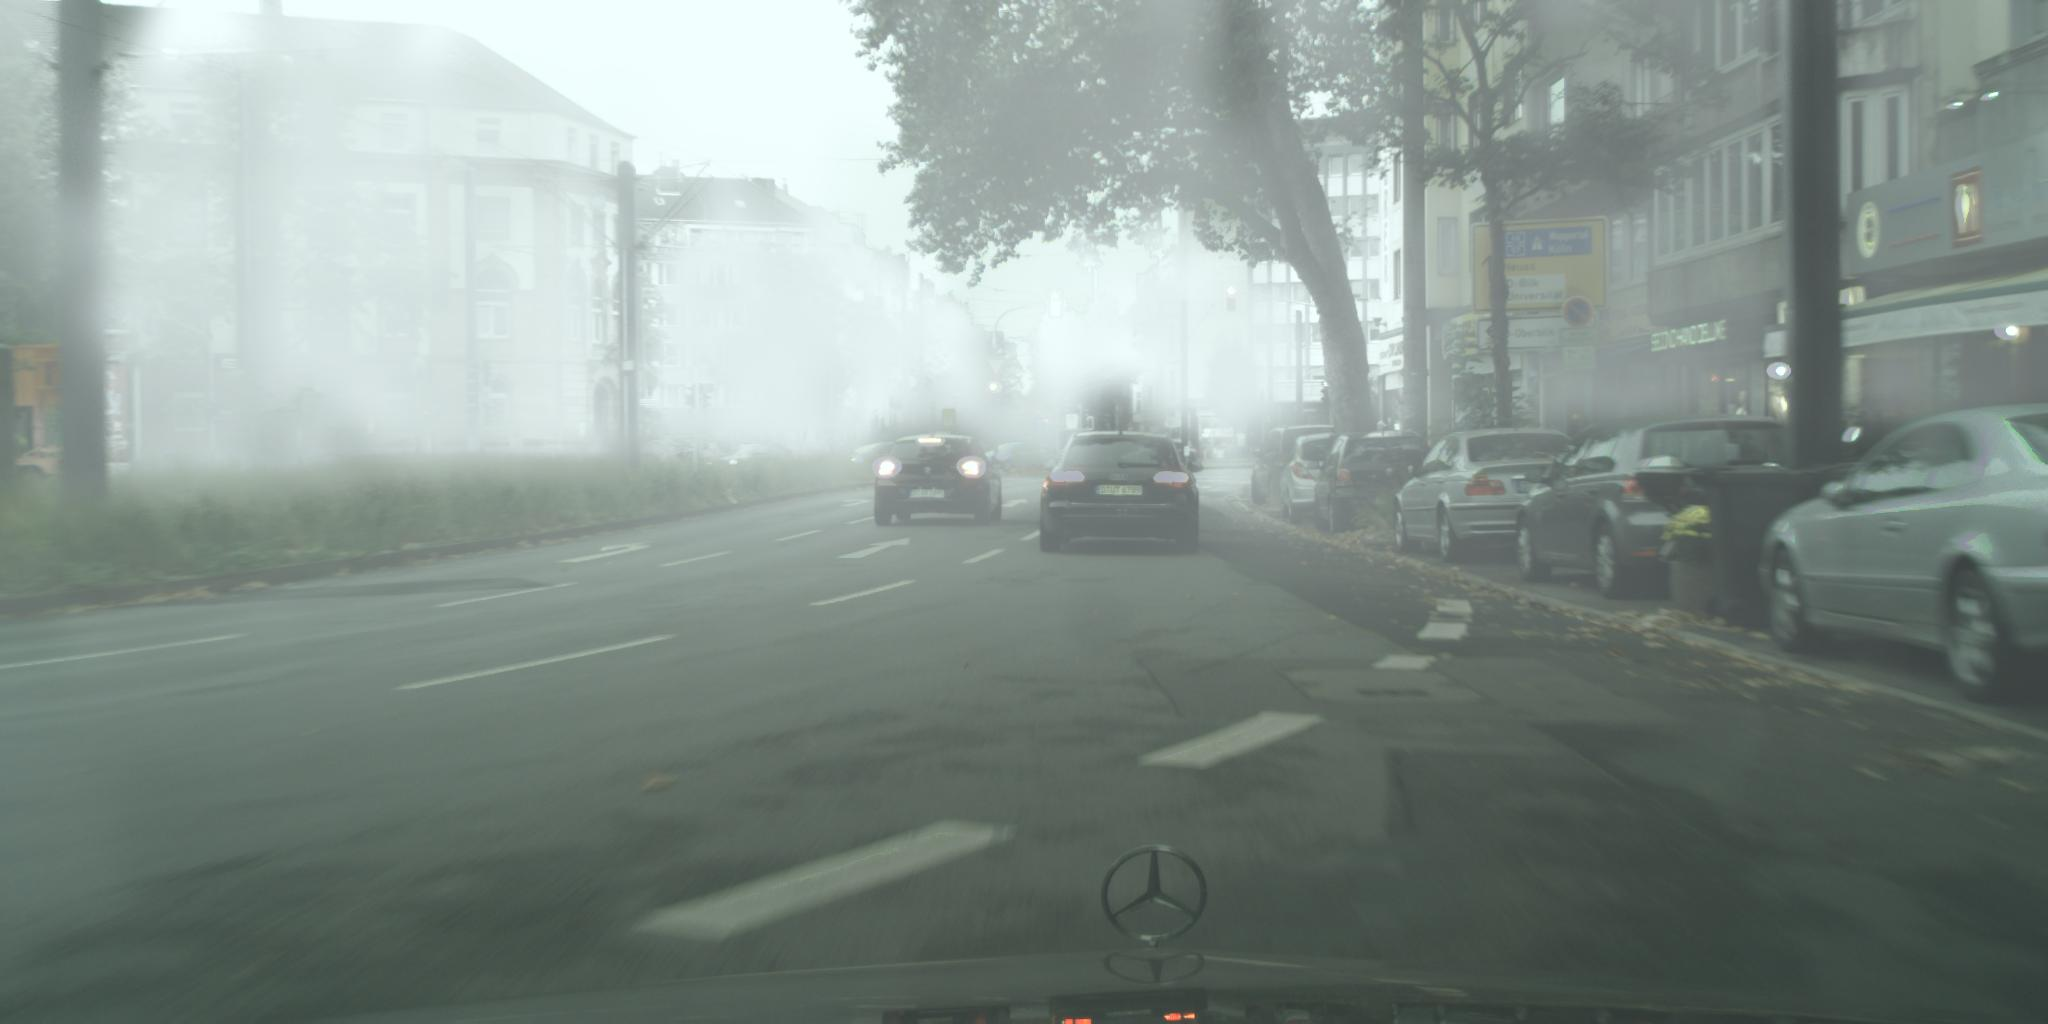car: (1755, 402, 2048, 705), (1512, 414, 1819, 601), (1394, 428, 1579, 566), (1041, 430, 1206, 556), (1314, 431, 1441, 536), (874, 434, 1003, 528), (1273, 434, 1354, 526), (1253, 424, 1341, 508)
